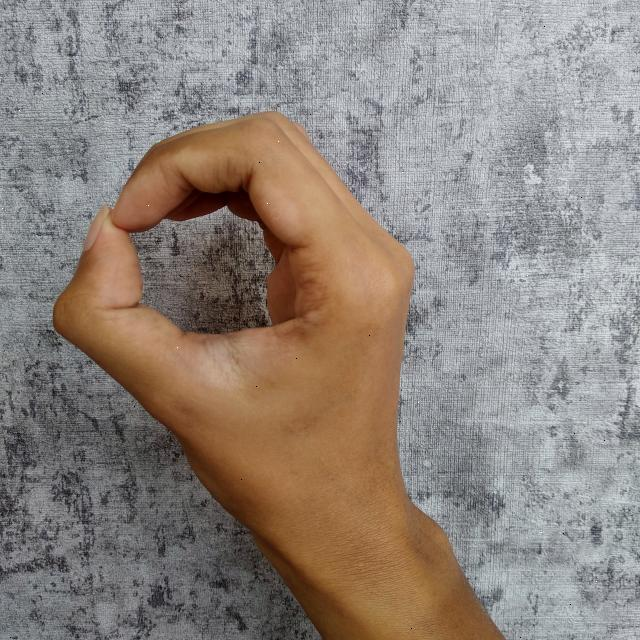O: (51, 102, 506, 640)
